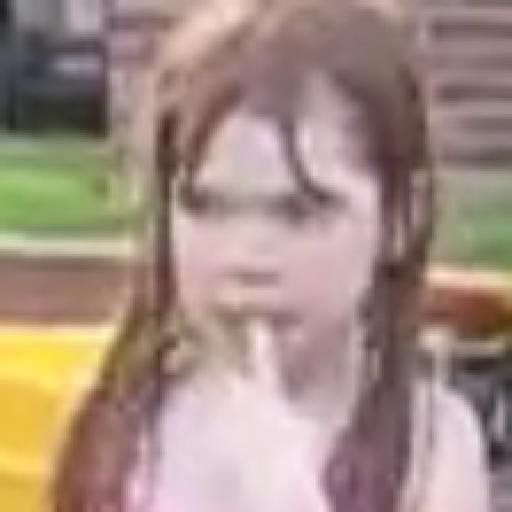Autism: (114, 0, 512, 510)
